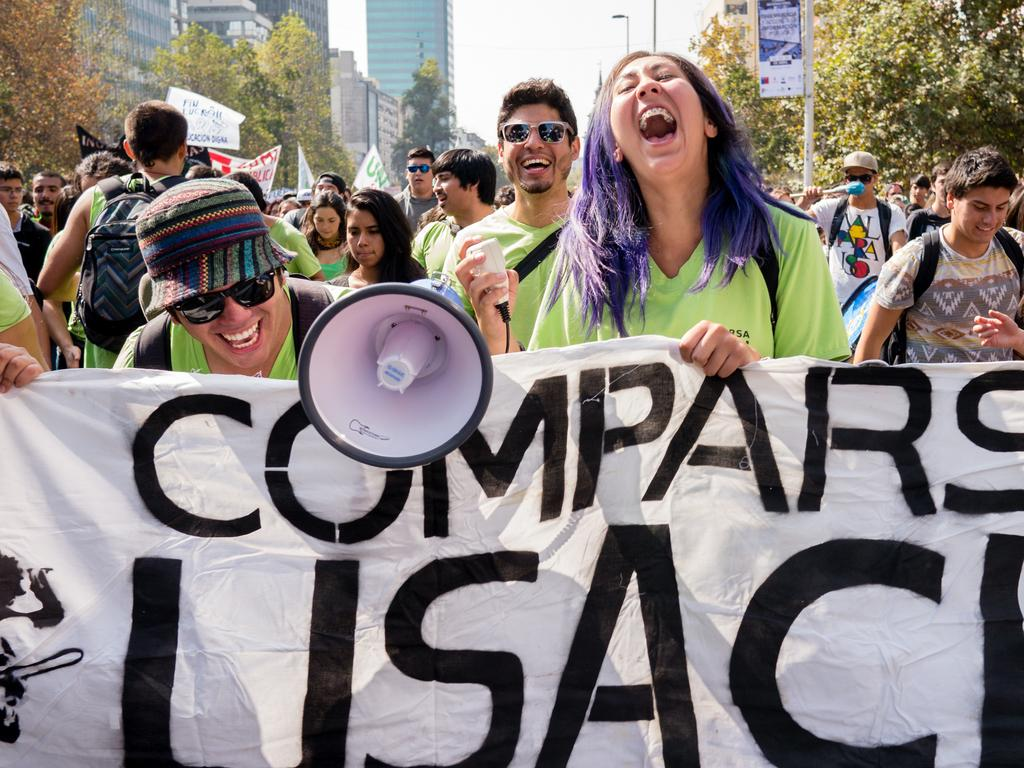Hat: (134, 173, 296, 316), (838, 150, 882, 172)
